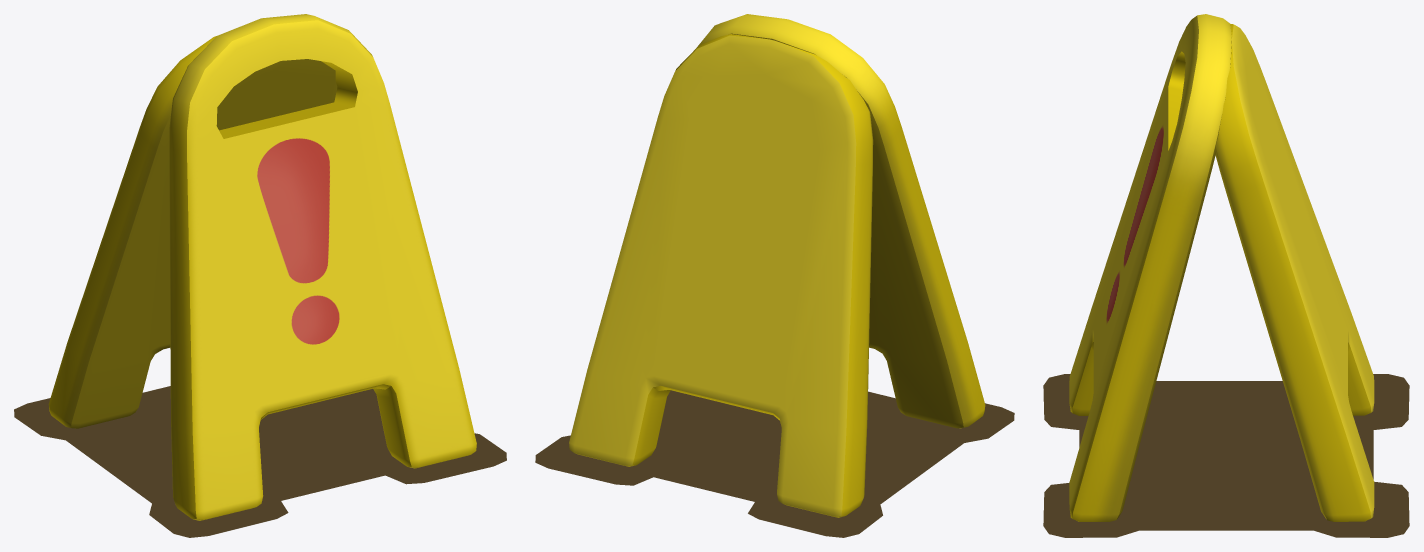
Rendered from Mu_Warning.fbx.
The picture shows the model from 3 angles, left to right: view 1: azimuth 30°, elevation 25°; view 2: azimuth 150°, elevation 25°; view 3: azimuth 270°, elevation 25°; orthographic projection. The views are drawn at different scales.
Visible parts, largest first — view 1: Mu_Warning, Mu_Warning_shadow; view 2: Mu_Warning, Mu_Warning_shadow; view 3: Mu_Warning, Mu_Warning_shadow.
Boxes of the visible parts, left/top/right/bottom form: Mu_Warning: left=48, top=14, right=476, bottom=520; Mu_Warning_shadow: left=14, top=386, right=506, bottom=537; Mu_Warning: left=569, top=14, right=985, bottom=517; Mu_Warning_shadow: left=535, top=390, right=1014, bottom=537; Mu_Warning: left=1069, top=14, right=1374, bottom=521; Mu_Warning_shadow: left=1043, top=374, right=1409, bottom=537.
Size of the model in its own units: 107 by 129 by 101.
Materials: 2 (1 with a texture image).
